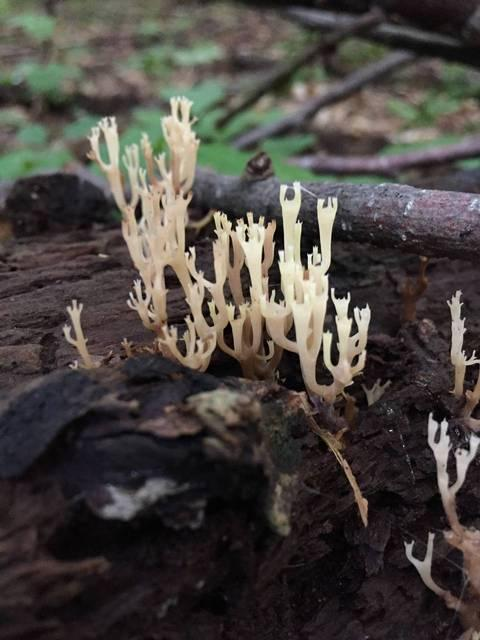Edible Mushroom: (84, 94, 372, 405), (402, 288, 479, 638)
